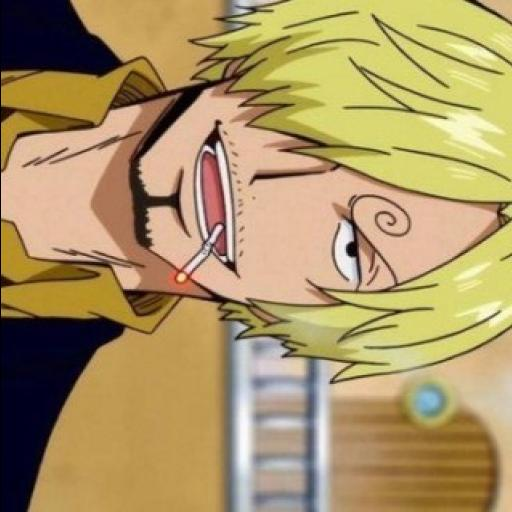sanji: (129, 0, 512, 356)
